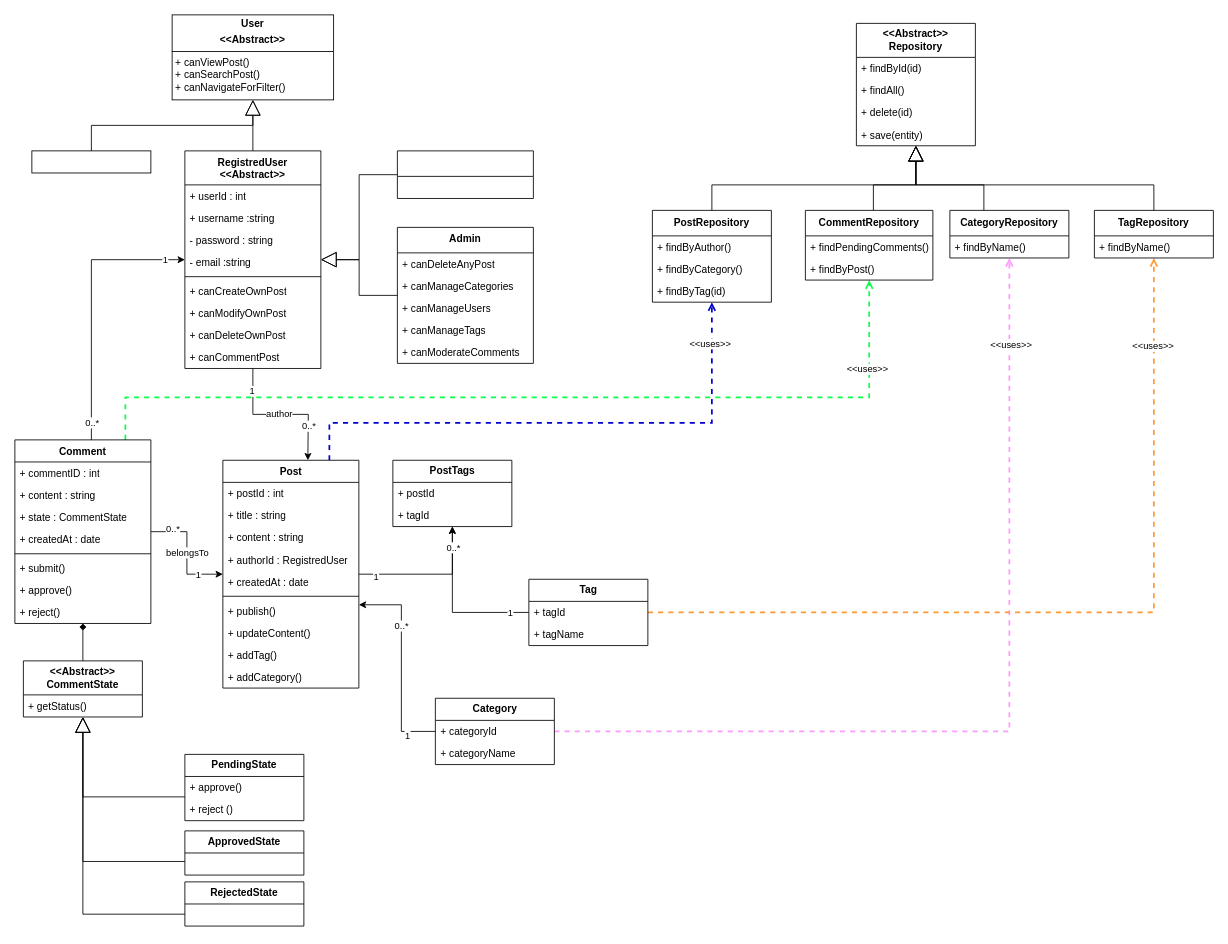
This 1228x944 diagram has some shape labels left out. The shapes that lost their labels are listed below. From the top down, each one's centre as x and y in pixels, then its label:
At (91,161): "Visitor".
At (465,174): "Editor".
